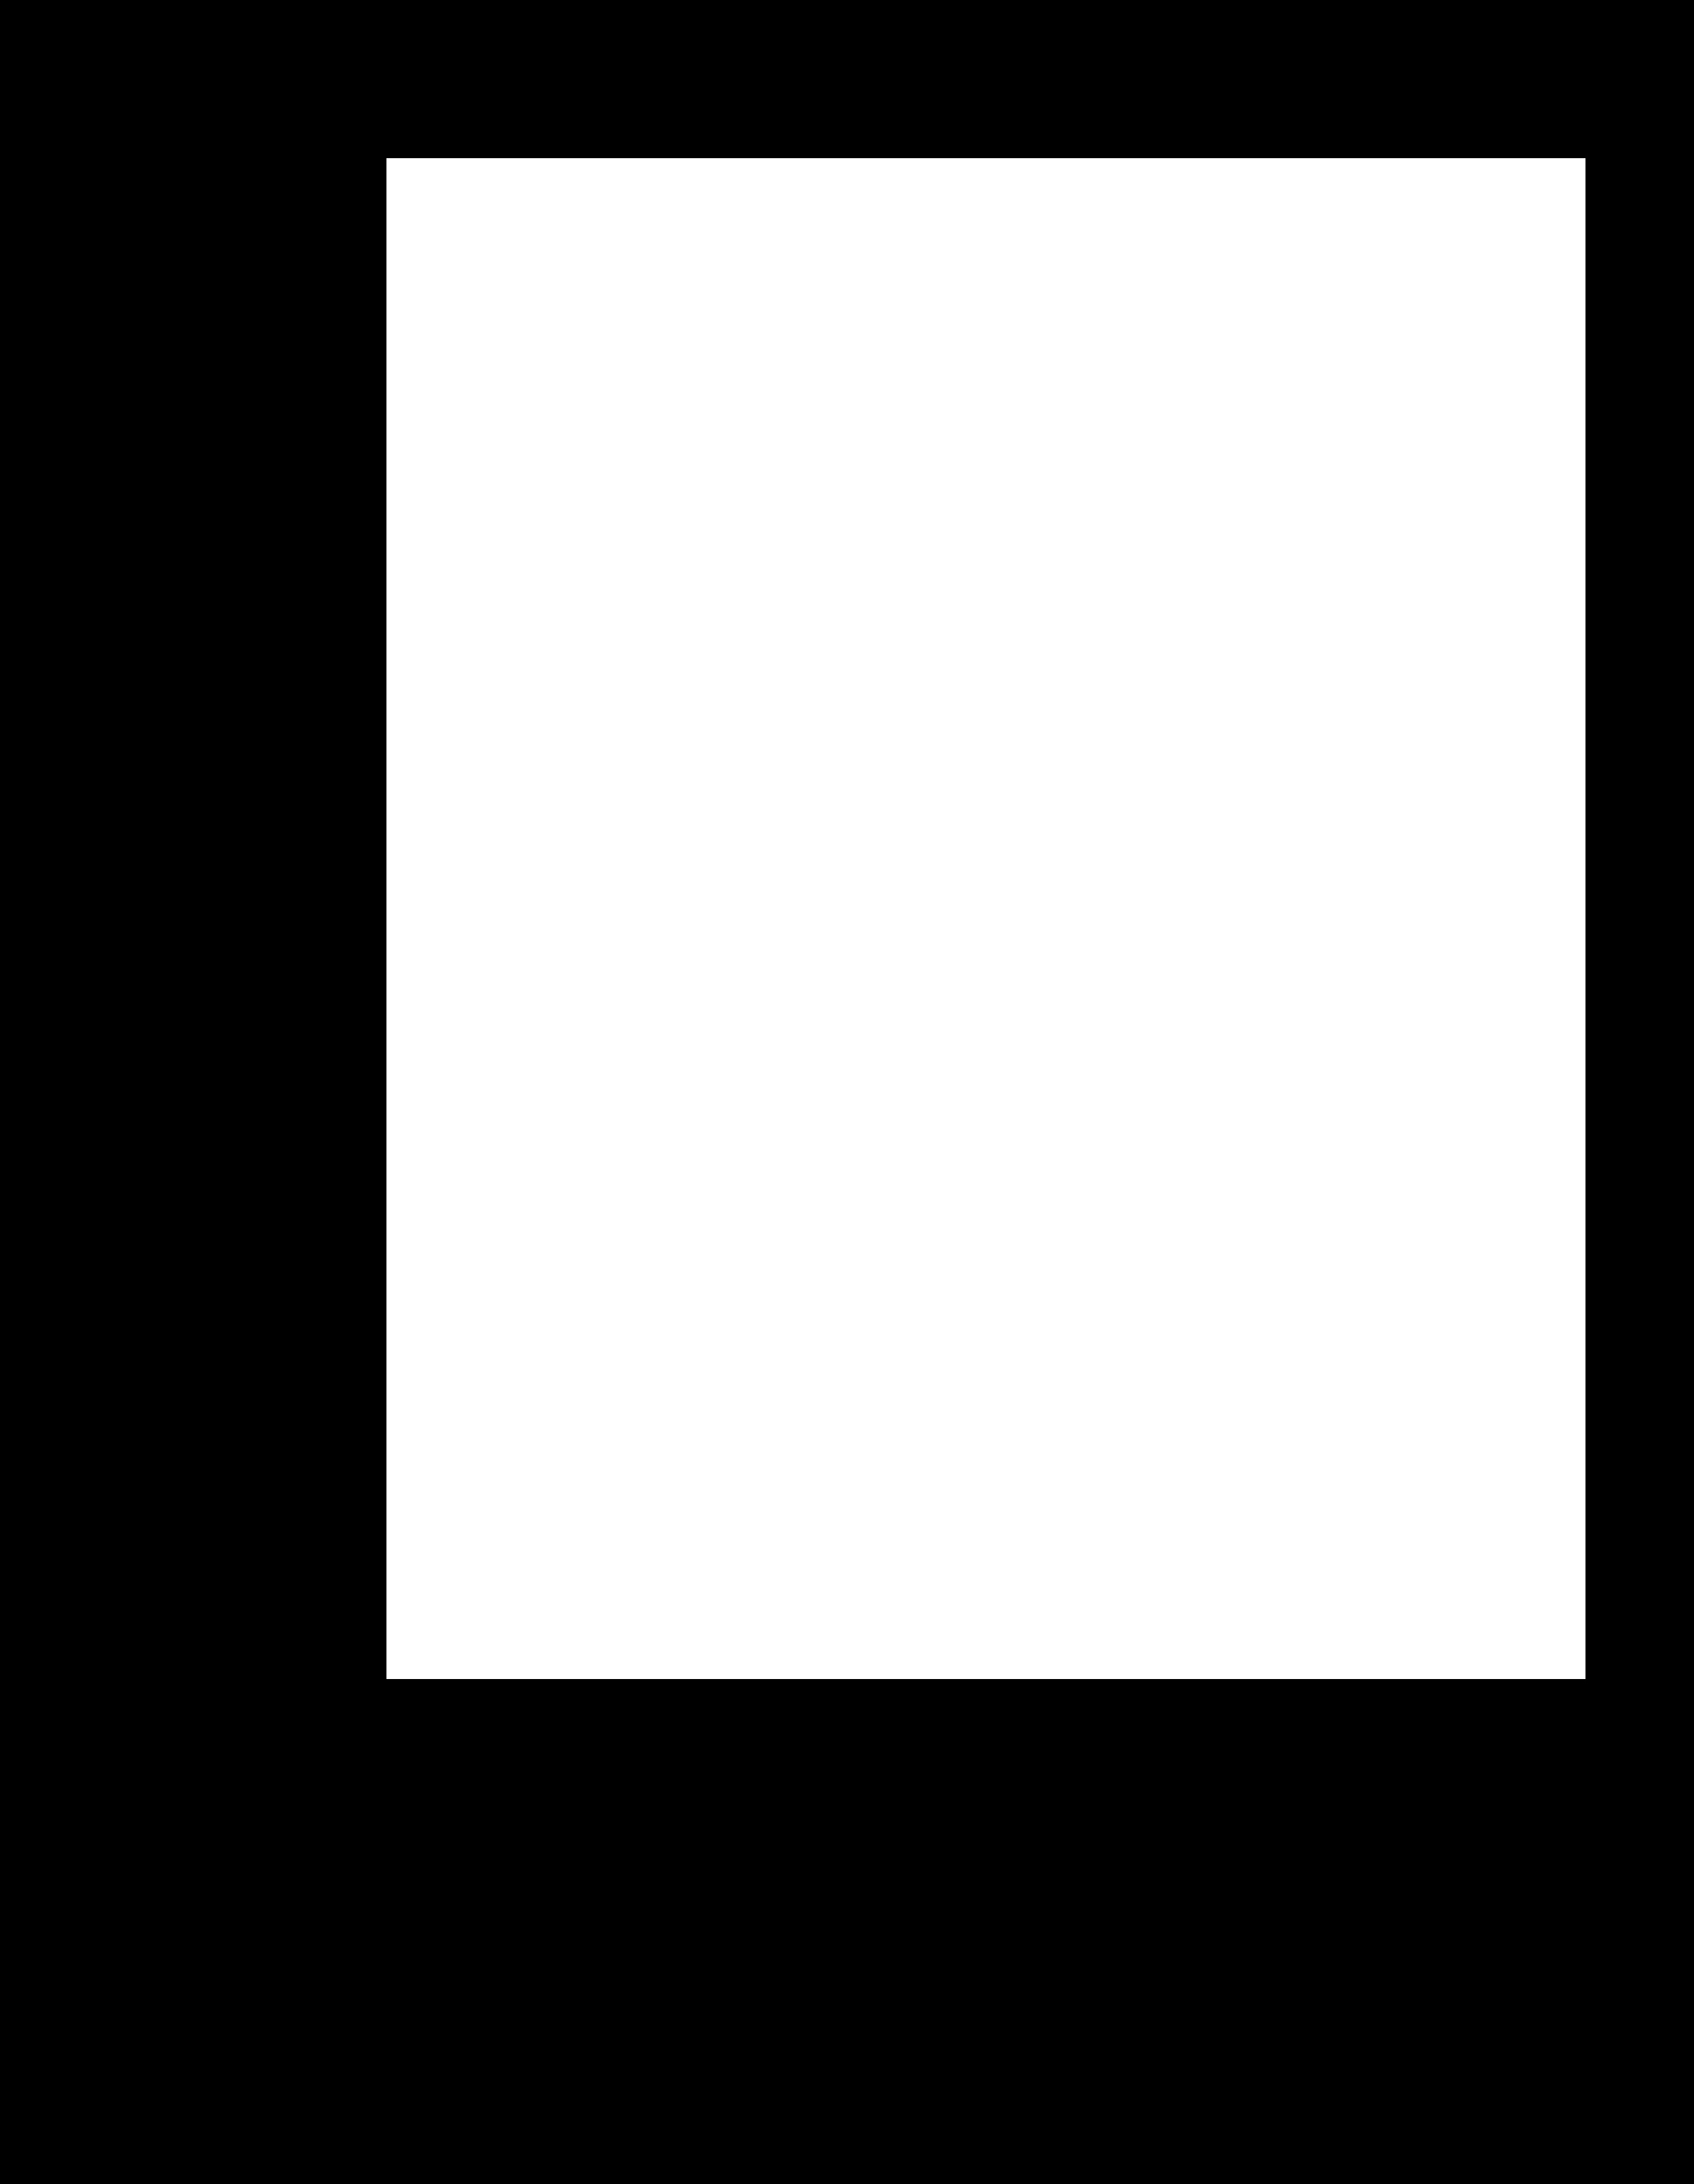table: (386, 158, 1584, 1679)
